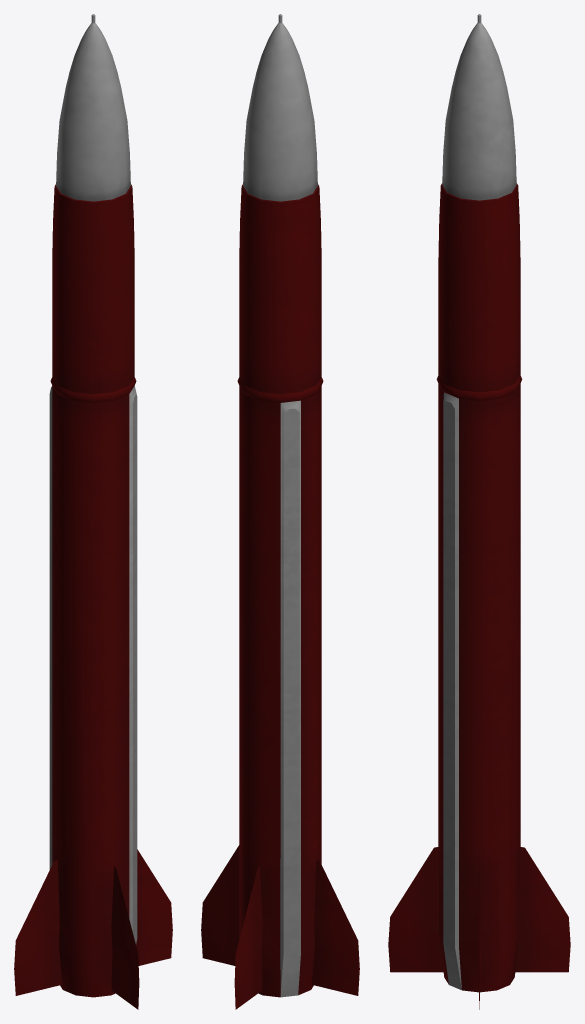
Rendered from Patriot___MIM-104.obj.
3 renders of one model, left to right at view 1: azimuth 30°, elevation 25°; view 2: azimuth 150°, elevation 25°; view 3: azimuth 270°, elevation 25°, orthographic.
Parts seen in each view (by area): view 1: polymsh; view 2: polymsh; view 3: polymsh.
Part boxes in pixels (bbox=[...]): polymsh: bbox=[14, 14, 172, 1009]; polymsh: bbox=[201, 14, 359, 1009]; polymsh: bbox=[388, 14, 570, 1009].
Bounding box in the file's own units: 0.9141 × 5.33 × 0.9141.
1 material, 1 textured.
